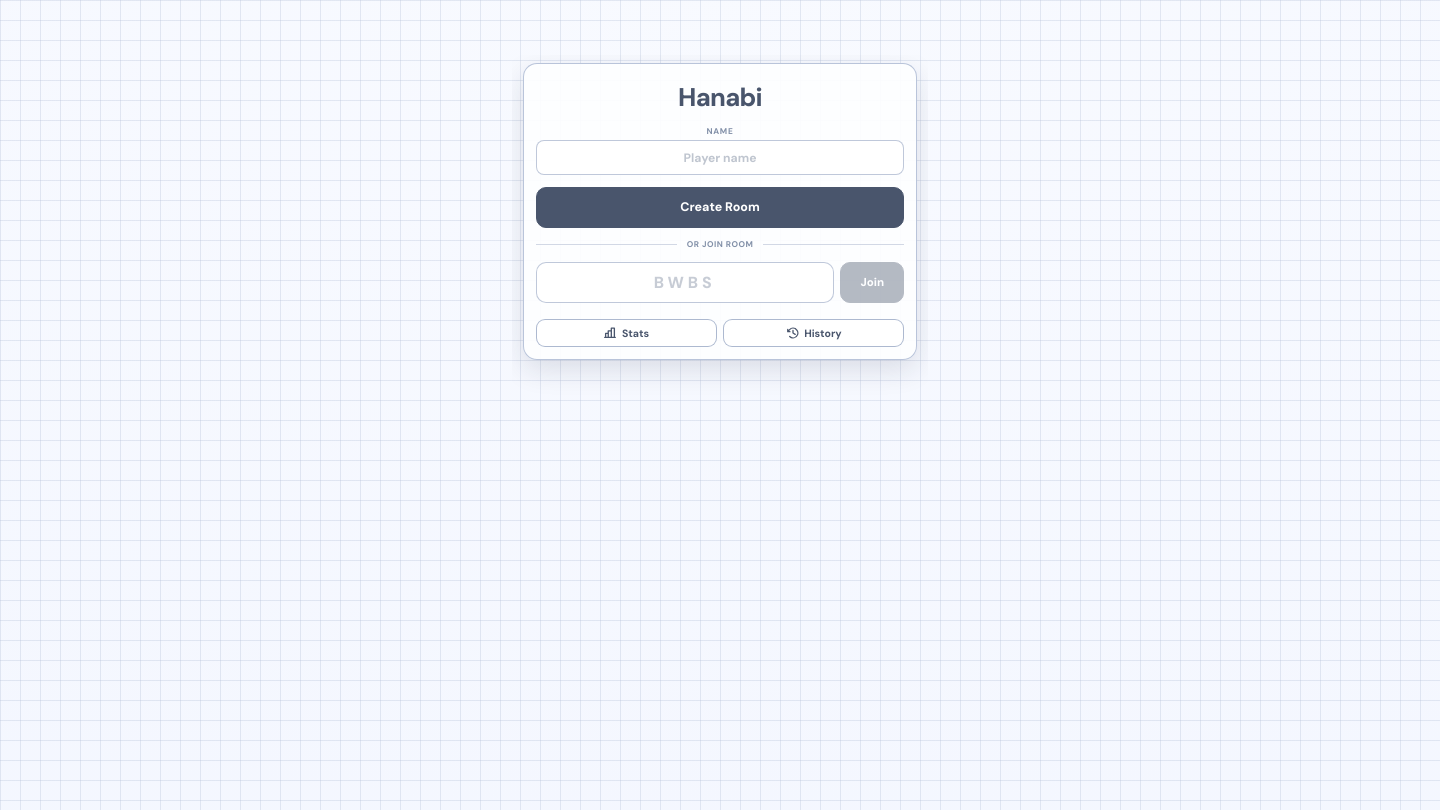
Test: LobbyDirectory › does not join while typing a complete room code
The width and height of the screenshot is (1440, 810).
Step 1. Type "ABCD" into the field with test id "room-directory-join-input" → coordinates (685, 282), box x1=536 y1=262 x2=834 y2=303
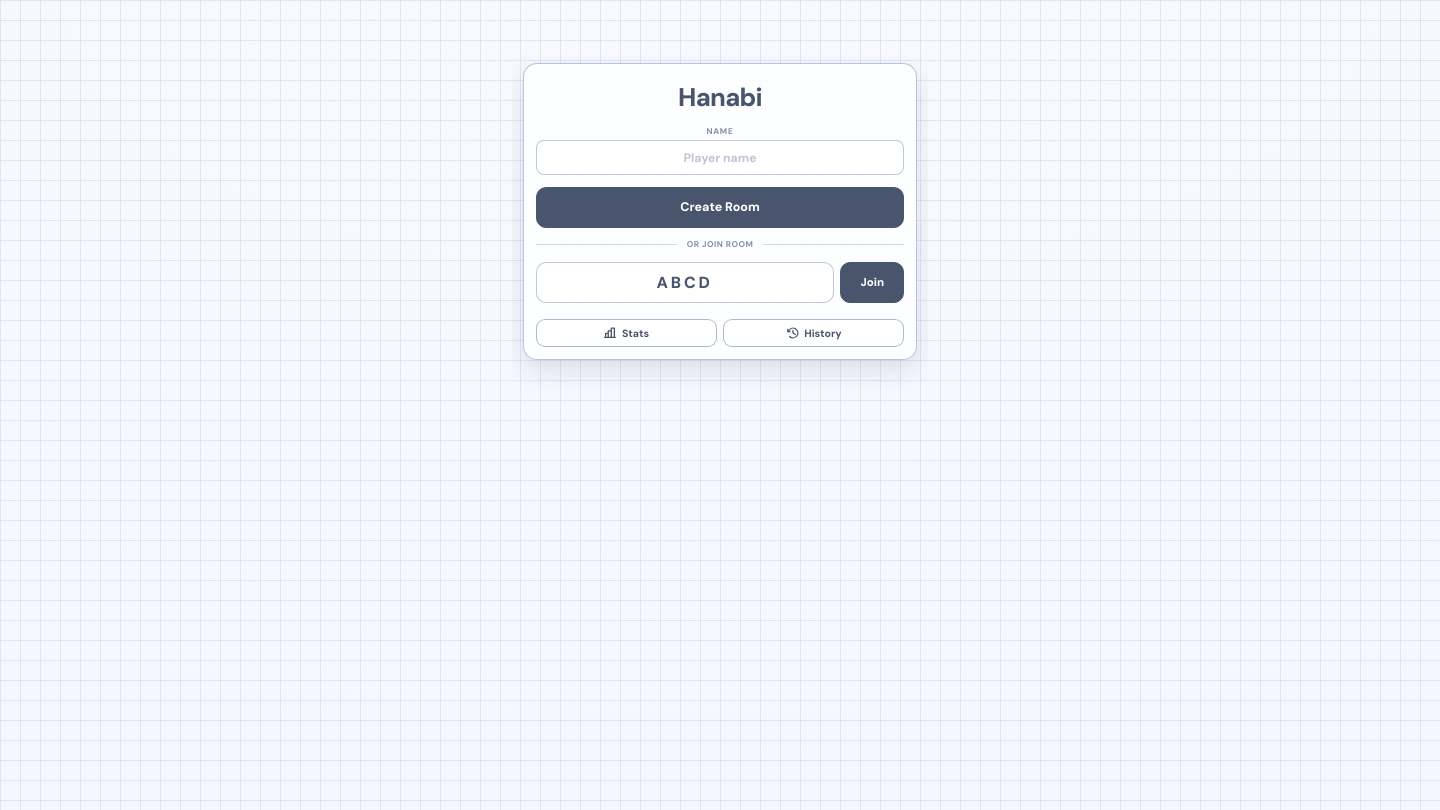
Now the button with test id "room-directory-join" is enabled, box x1=840 y1=262 x2=904 y2=303
